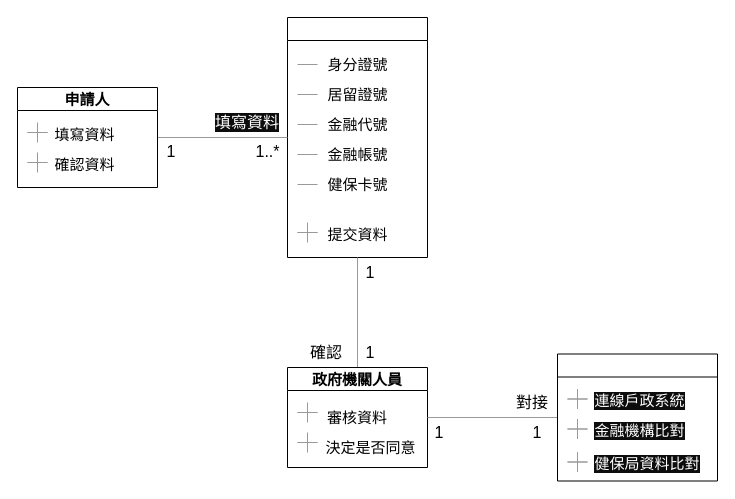
This 735x499 diagram has some shape labels left out. The shapes that lost their labels are listed below. From the top down, each one's box as (x1, y1, x2, y2) in pixels, then its label:
(286, 16, 428, 258): 網站
(556, 353, 718, 481): 後台人員
